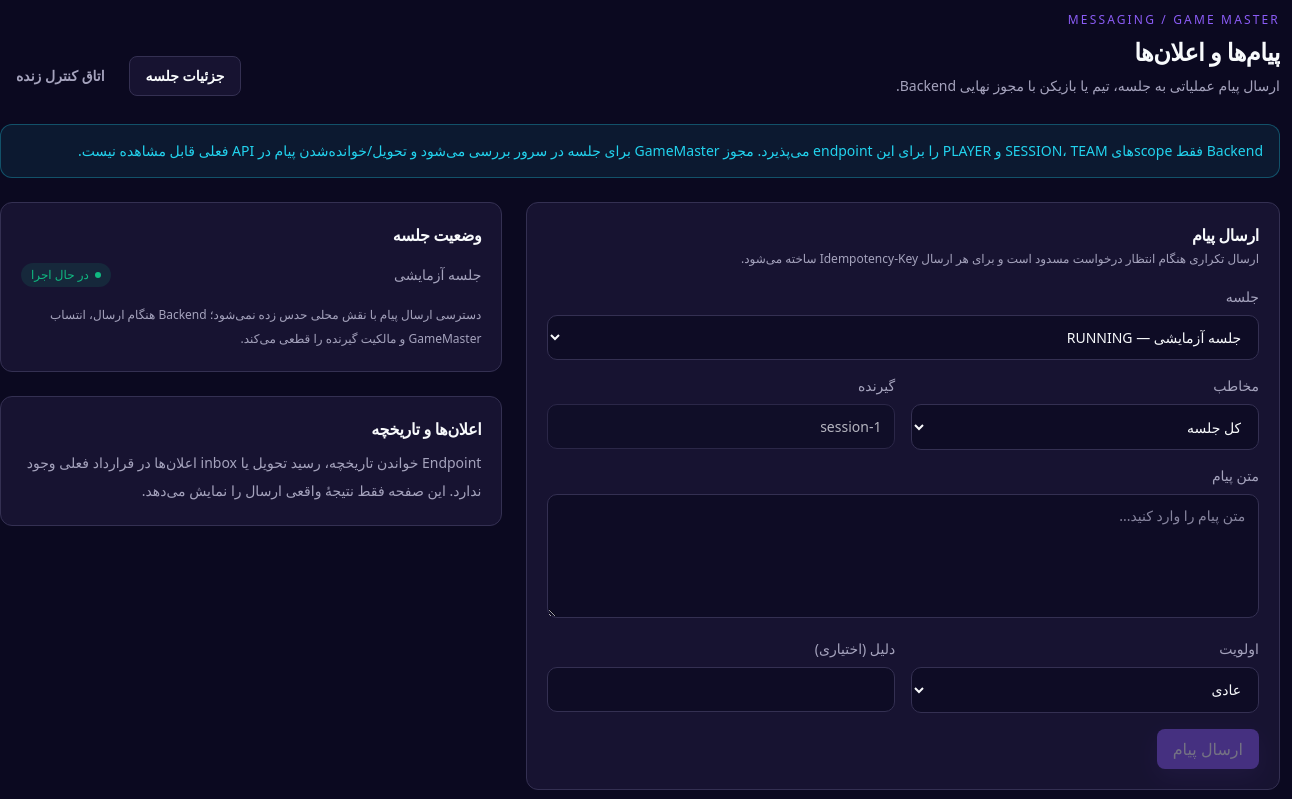
Test case: messages center › sends a session message through the real contract with idempotency
This screenshot has width=1292, height=799.
Expected: the text "جلسه آزمایشی" is shown, [394,265,481,285]
Type "پیام عملیاتی" into the text box labelled "متن پیام" at [903, 556], box [547,494,1259,618]
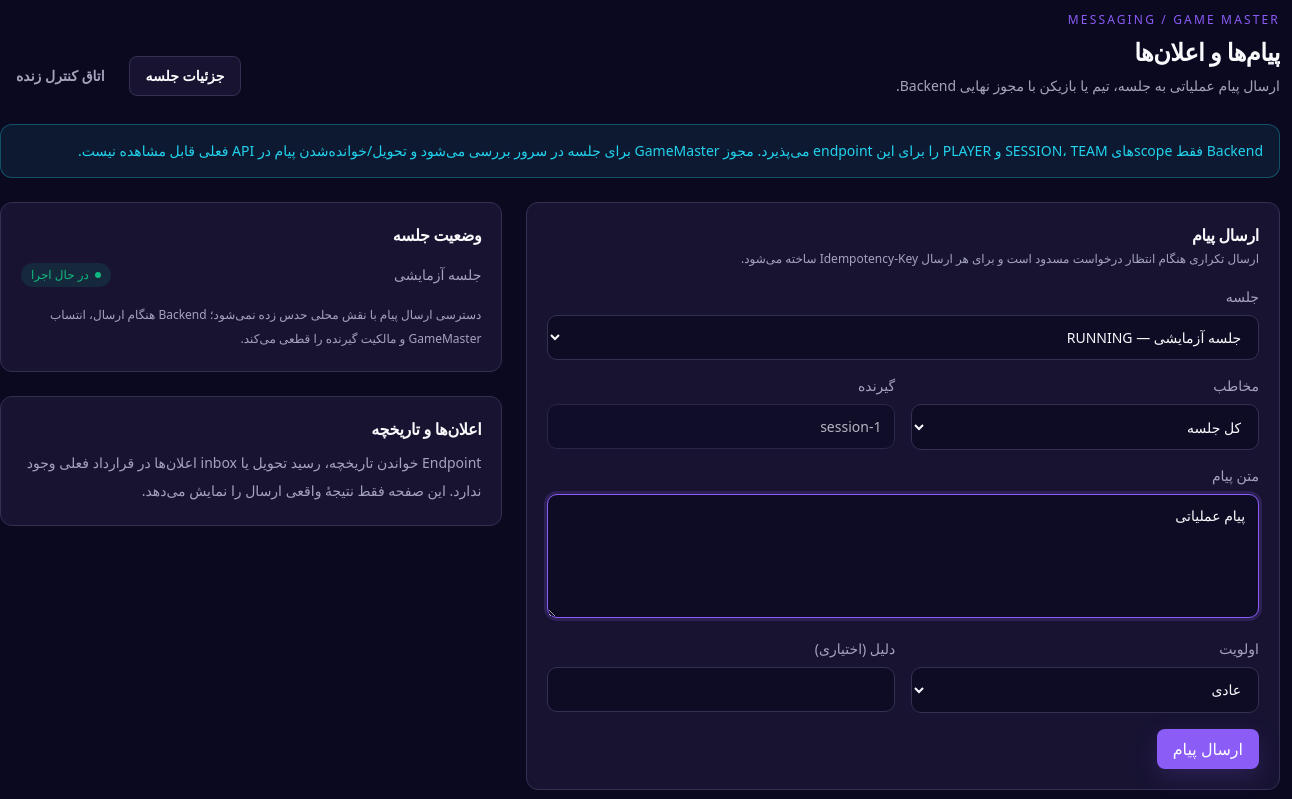
Click the button "ارسال پیام" at [1208, 748], box [1157,728,1259,768]
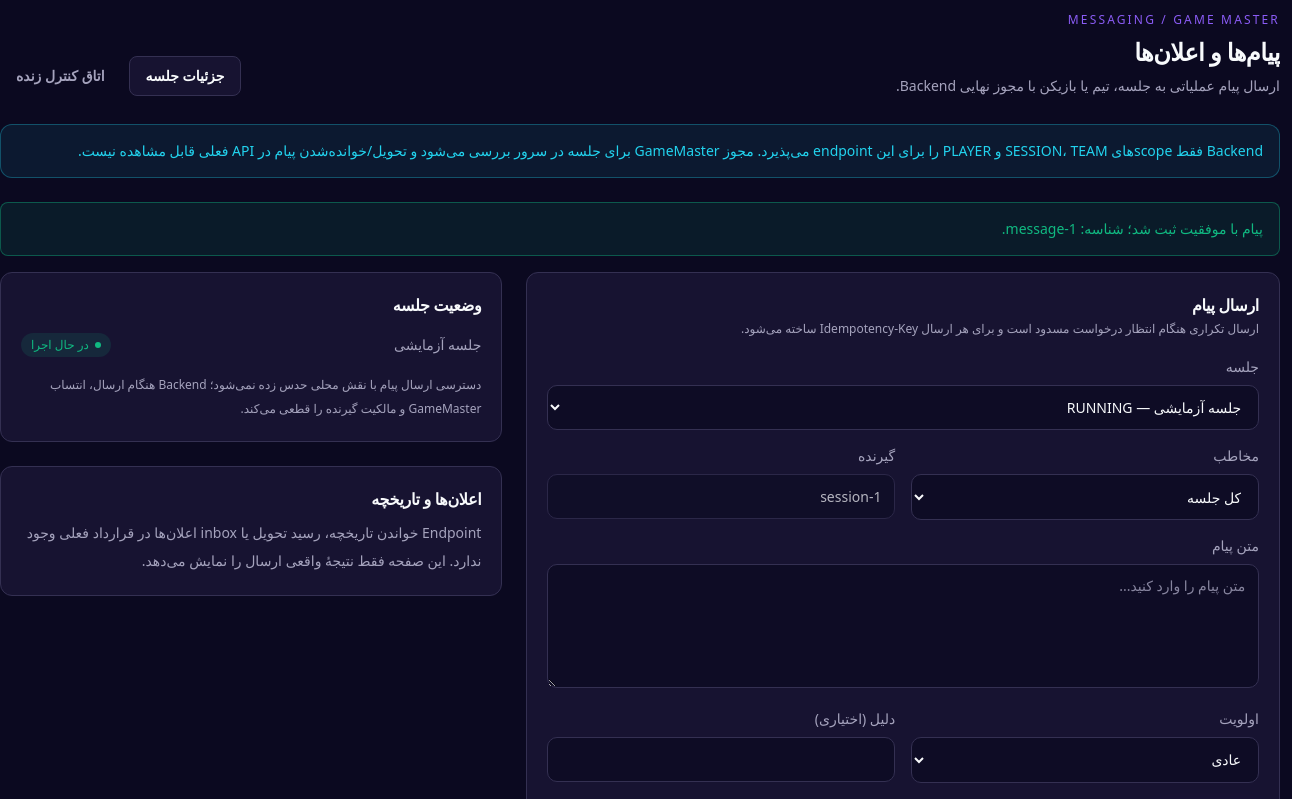
Expected: the message shows "پیام با موفقیت ثبت شد", [1002,219,1263,238]
